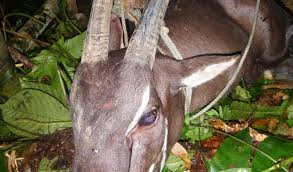sao_la: (68, 1, 240, 172)
